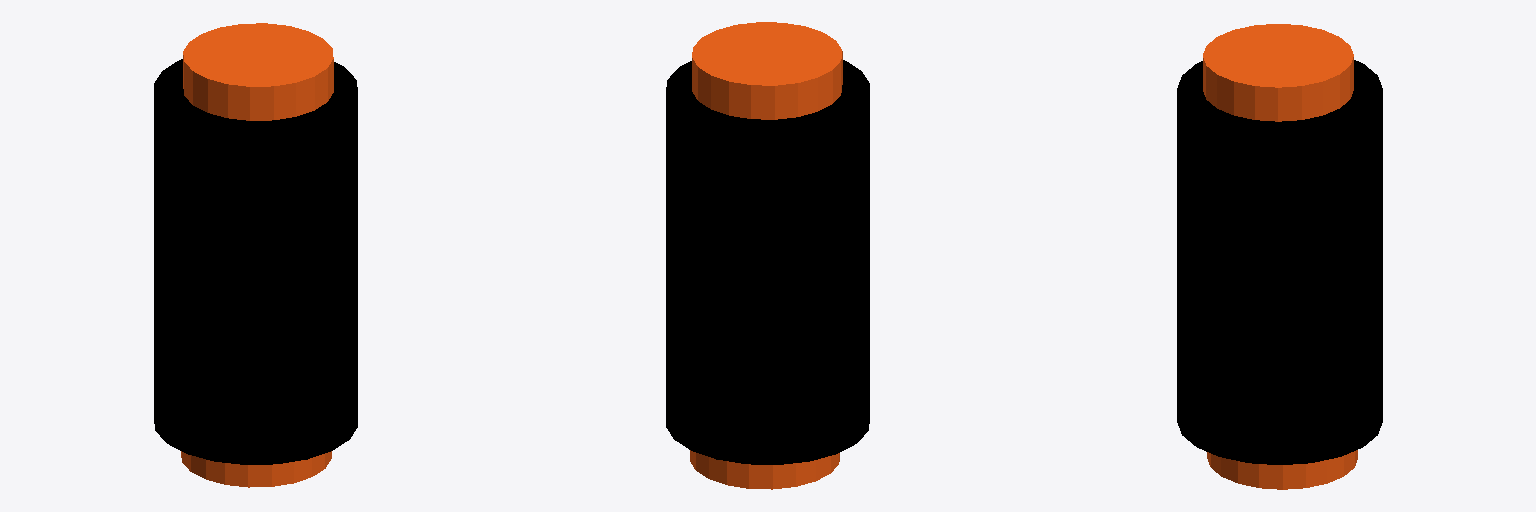
Rendered from cask_3js_try.obj.
3 views of the same model, side by side, from view 1: azimuth 30°, elevation 25°; view 2: azimuth 150°, elevation 25°; view 3: azimuth 270°, elevation 25° (orthographic).
Visible parts, largest first — view 1: pCylinder9 group2 group, group2 group pCylinder7, group2 group pCylinder8; view 2: pCylinder9 group2 group, group2 group pCylinder7, group2 group pCylinder8; view 3: pCylinder9 group2 group, group2 group pCylinder7, group2 group pCylinder8.
Boxes of the visible parts, <box> form: pCylinder9 group2 group: <box>154,59,357,464</box>; group2 group pCylinder7: <box>183,23,333,120</box>; group2 group pCylinder8: <box>181,451,331,487</box>; pCylinder9 group2 group: <box>666,60,869,464</box>; group2 group pCylinder7: <box>692,22,842,119</box>; group2 group pCylinder8: <box>690,450,839,489</box>; pCylinder9 group2 group: <box>1177,60,1382,464</box>; group2 group pCylinder7: <box>1203,24,1353,121</box>; group2 group pCylinder8: <box>1207,450,1357,489</box>.
Bounding box in the file's own units: 2 × 4.31 × 2.